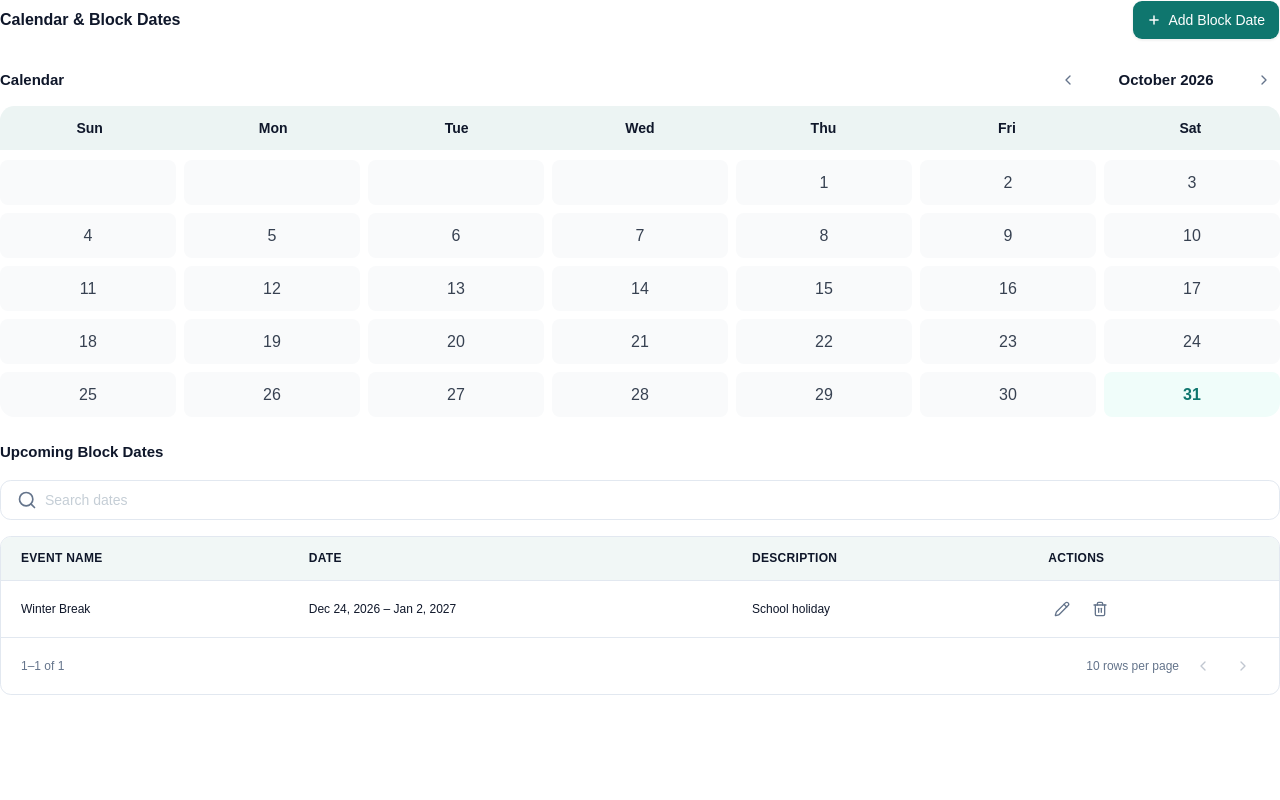
Test: BlockDatesPanel modal and actions › opens modal for editing an existing block date with populated data
Expected: the text "Winter Break" is shown, [1,580,289,637]
Click the button named "Edit Winter Break" at (1062, 609), box [1048,595,1076,623]
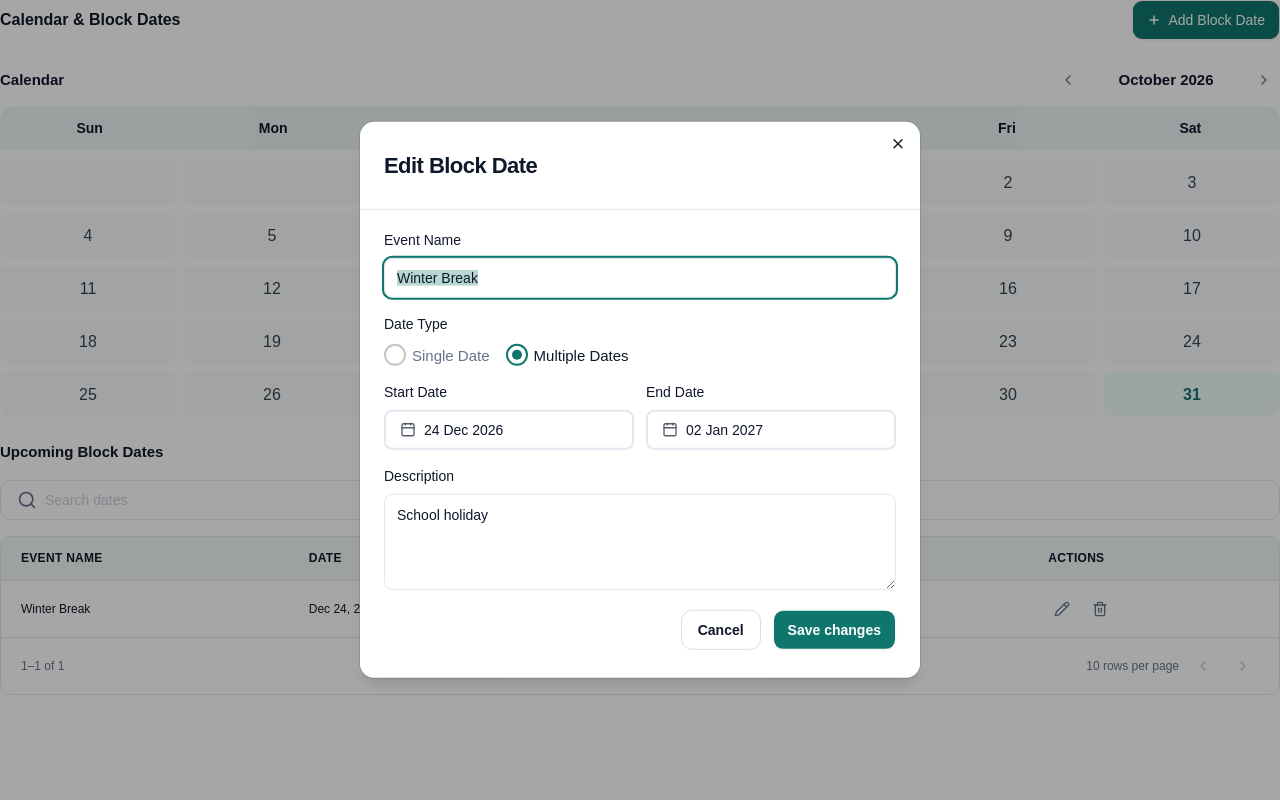
Expected: the dialog is shown, [360,122,920,678]
Expected: the heading "Edit Block Date" is shown, [384,153,537,178]
Expected: the field showing "Winter Break" is shown, [384,258,896,298]
